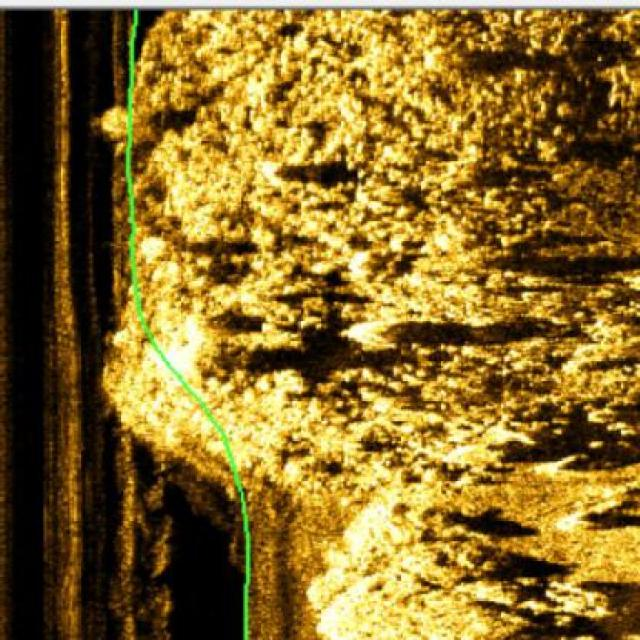bedrock group: (88, 12, 640, 639)
